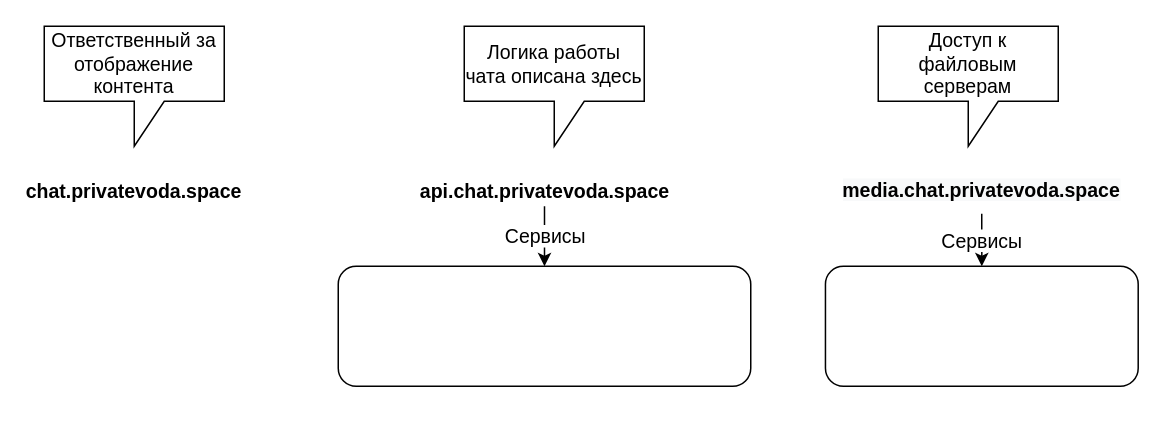
Some shapes in this 1164 by 425 pixel diagram are drawn without their labels. Here are the shapes that lost their labels. From the top down, the centre of each, then its label:
At point 544,325: "Auth Message Processing Storage Processing User Processing".
At point 981,325: "Download/Upload/Delete files Set/Get avatar".
